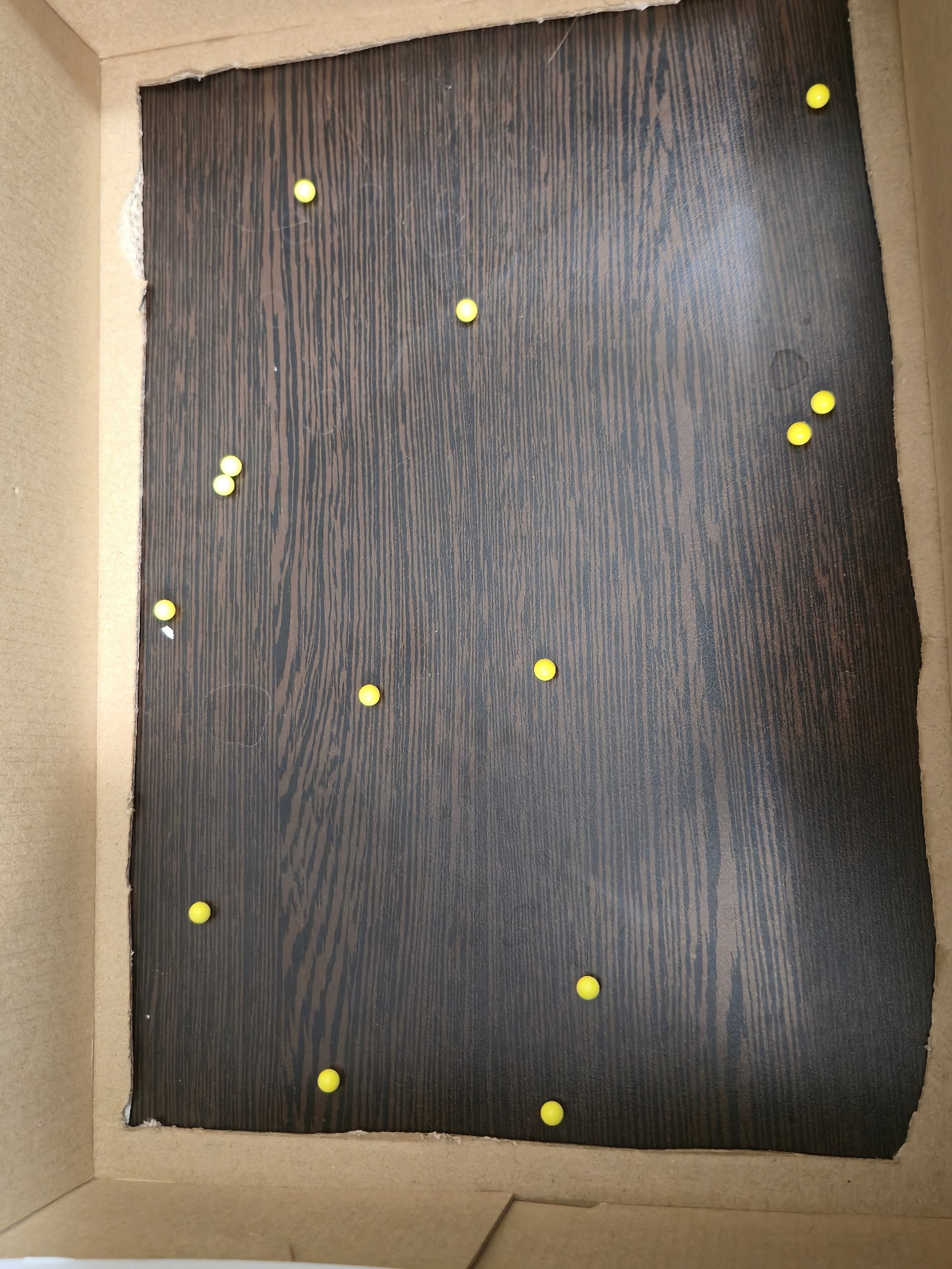yellow_bead: (582, 982, 594, 995), (816, 397, 830, 408), (547, 1107, 558, 1120), (323, 1075, 334, 1087), (793, 429, 805, 440), (812, 91, 823, 103), (194, 907, 205, 918), (364, 690, 374, 701), (539, 665, 550, 675), (247, 1268, 248, 1269)
